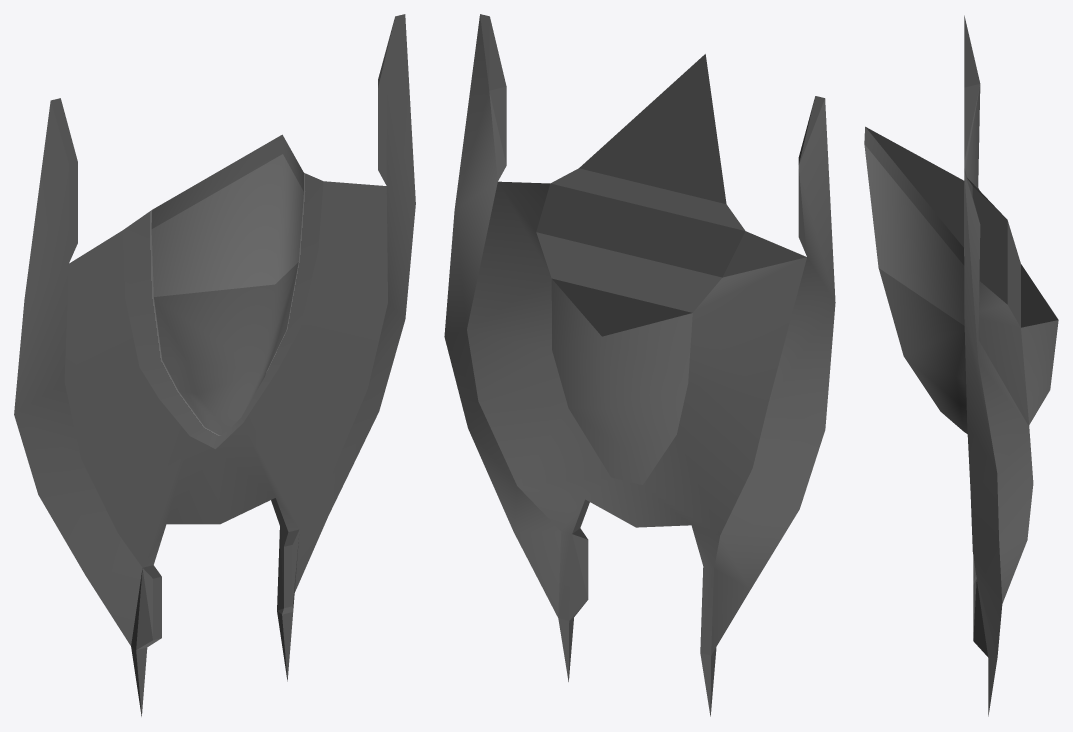
Rendered from ship_vt_00.glb.
The picture shows the model from 3 angles, left to right: view 1: azimuth 30°, elevation 25°; view 2: azimuth 150°, elevation 25°; view 3: azimuth 270°, elevation 25°; orthographic projection. The views are drawn at different scales.
Parts seen in each view (by area): view 1: group_13; view 2: group_13; view 3: group_13.
Boxes of the visible parts, x1,y1,x2,y2 form: group_13: [14, 14, 415, 716]; group_13: [444, 14, 835, 716]; group_13: [864, 15, 1058, 716].
Size of the model in its own units: 3678 by 5860 by 1740.
1 material, 1 textured.
